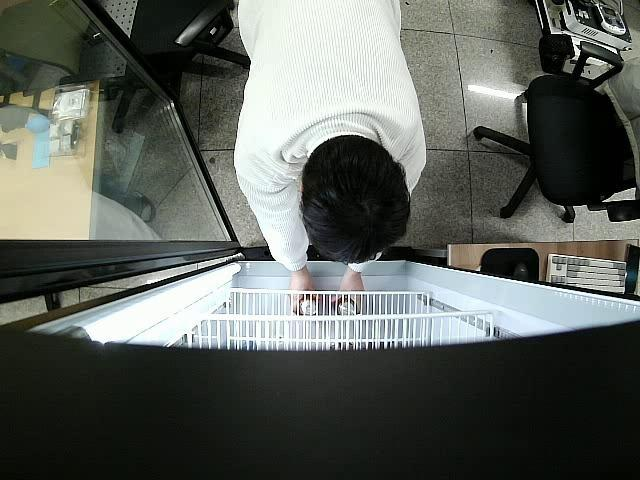11_cocaColaZero: (298, 294, 320, 317), (335, 295, 357, 316)
